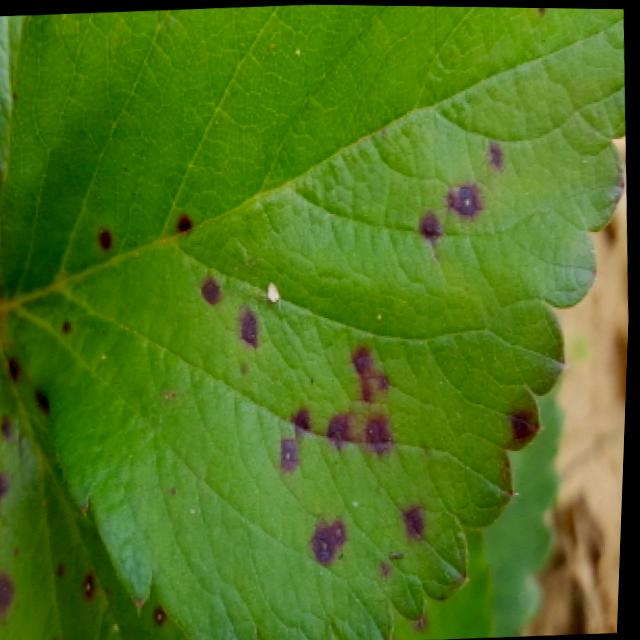Leaf Spot: (0, 4, 627, 640), (0, 334, 192, 640), (397, 529, 495, 640), (0, 15, 23, 224)
